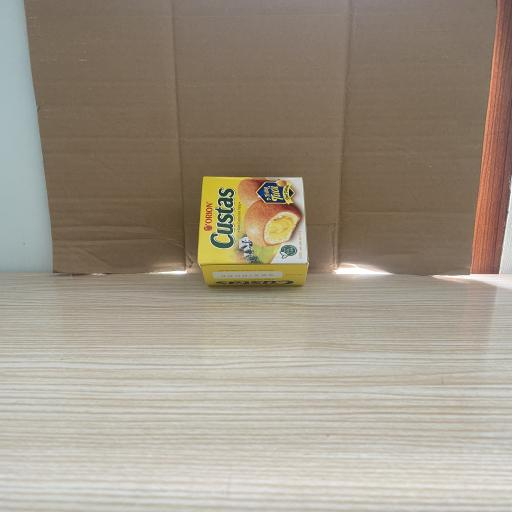custas: (197, 176, 309, 286)
